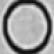no answer: (2, 0, 53, 54)
